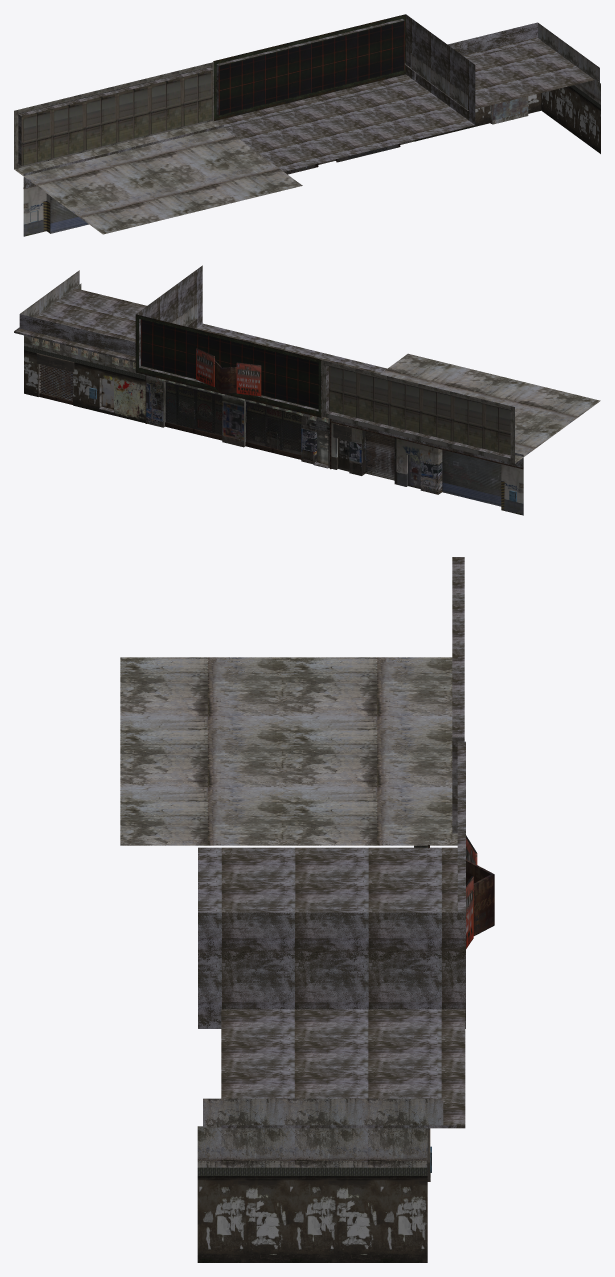
File: building003.FBX
The picture shows the model from 3 angles, top to bottom: view 1: azimuth 30°, elevation 25°; view 2: azimuth 150°, elevation 25°; view 3: azimuth 270°, elevation 25°; orthographic projection. The views are drawn at different scales.
Visible parts, largest first — view 1: Object004; view 2: Object004; view 3: Object004.
Boxes of the visible parts, bbox=[...] form: Object004: bbox=[14, 14, 600, 236]; Object004: bbox=[14, 265, 600, 515]; Object004: bbox=[120, 557, 494, 1262].
Bounding box in the file's own units: 630 × 140 × 204.
